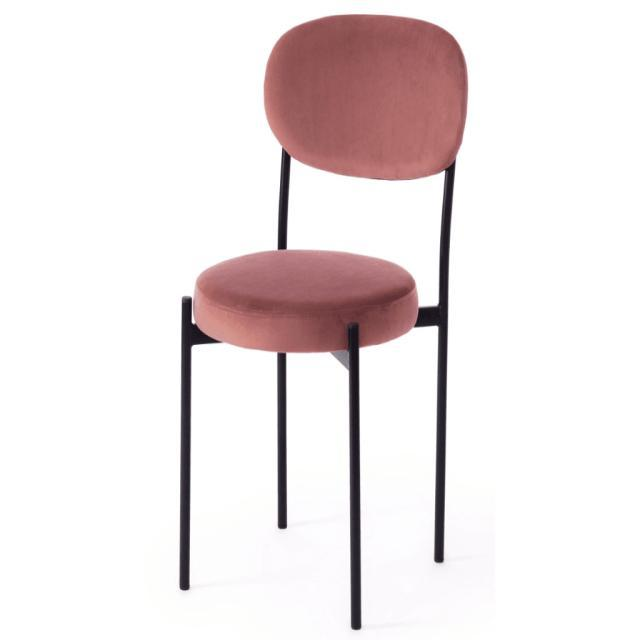chair: (173, 6, 471, 634), (176, 12, 468, 353)
